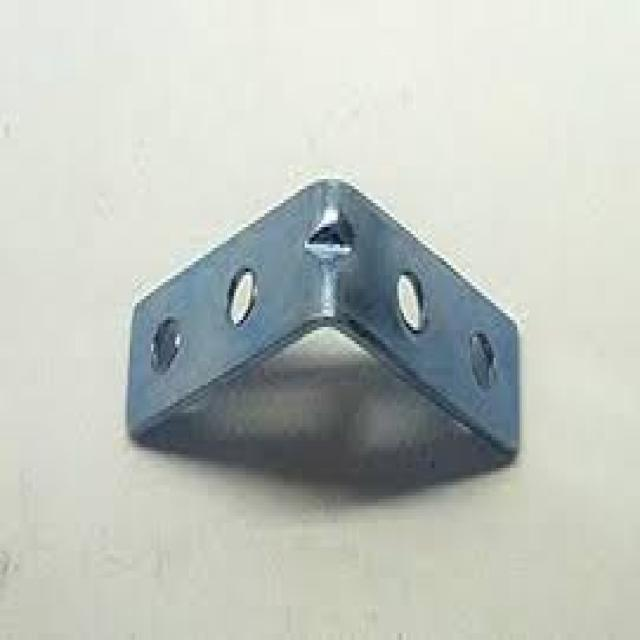holes: (394, 268, 425, 334), (149, 313, 182, 372), (224, 265, 255, 323), (468, 327, 496, 389)
